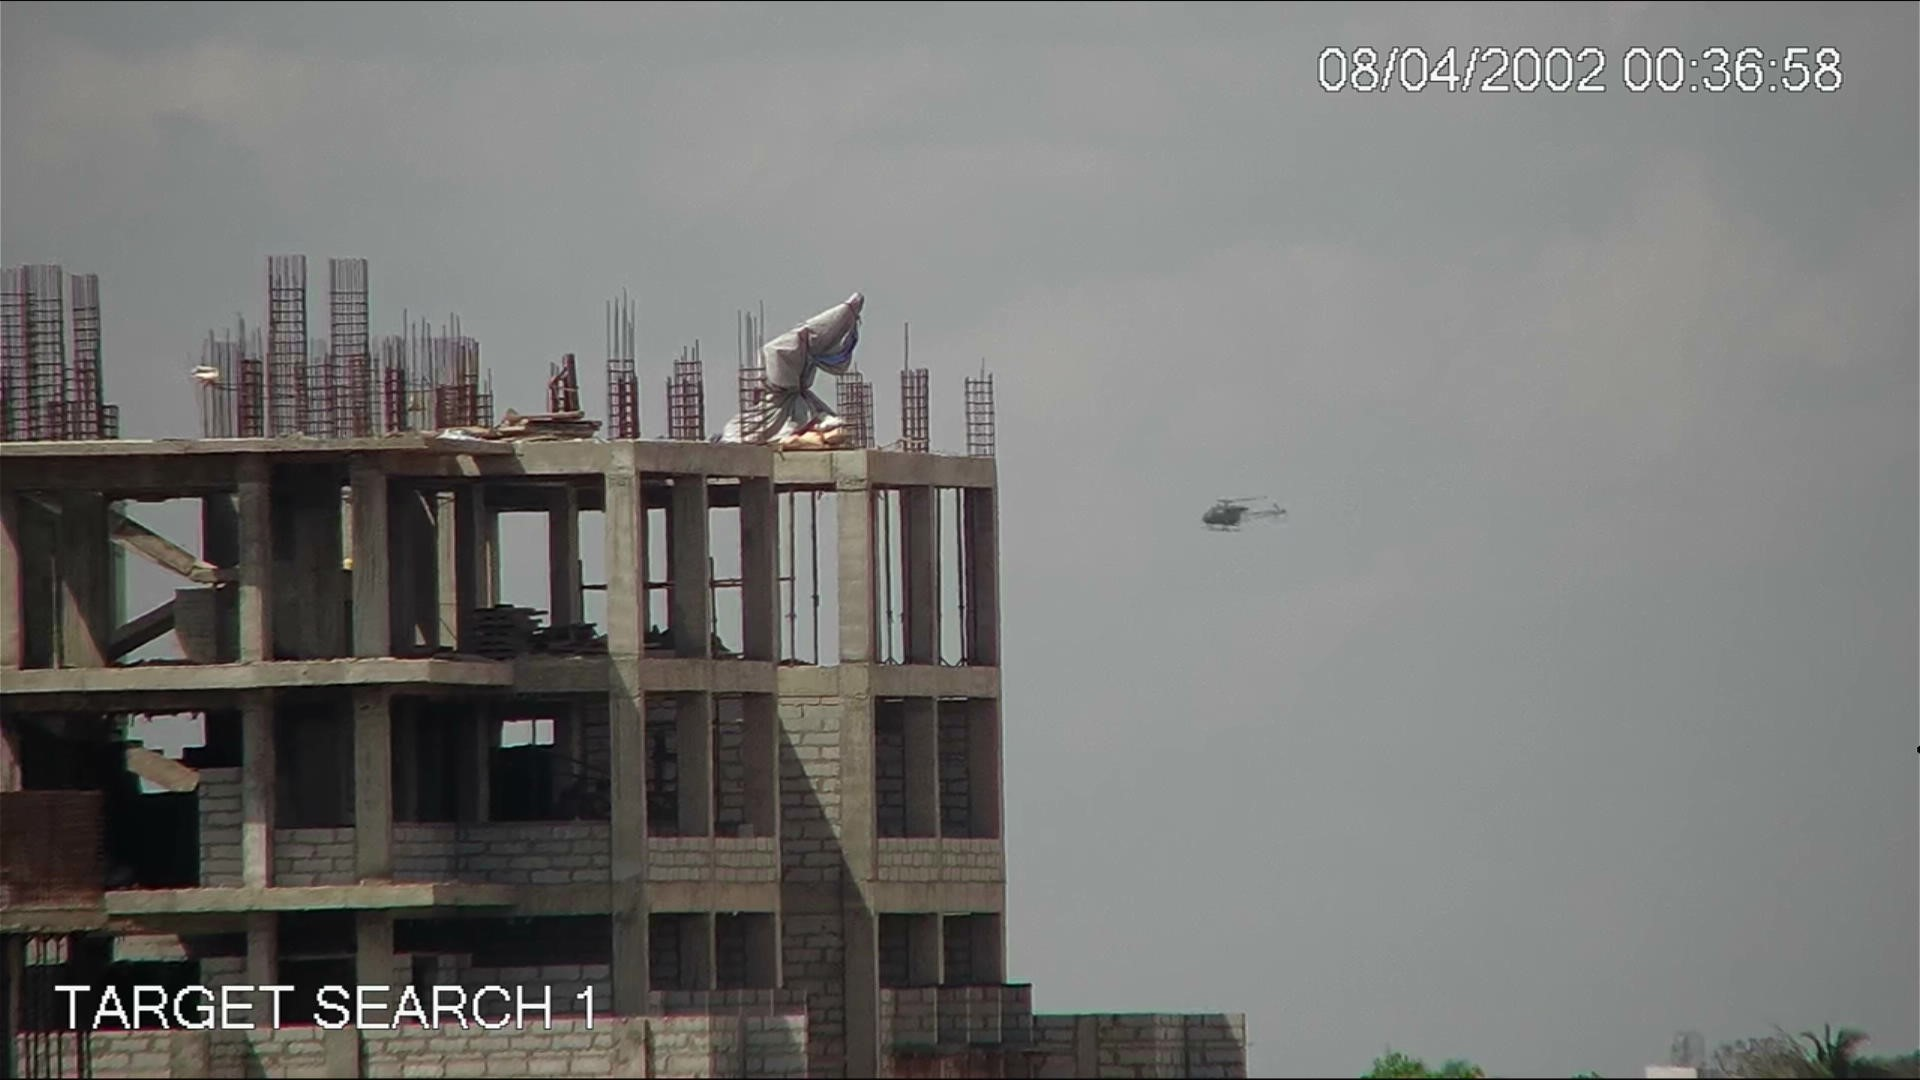SU_30: (1201, 495, 1295, 537)
